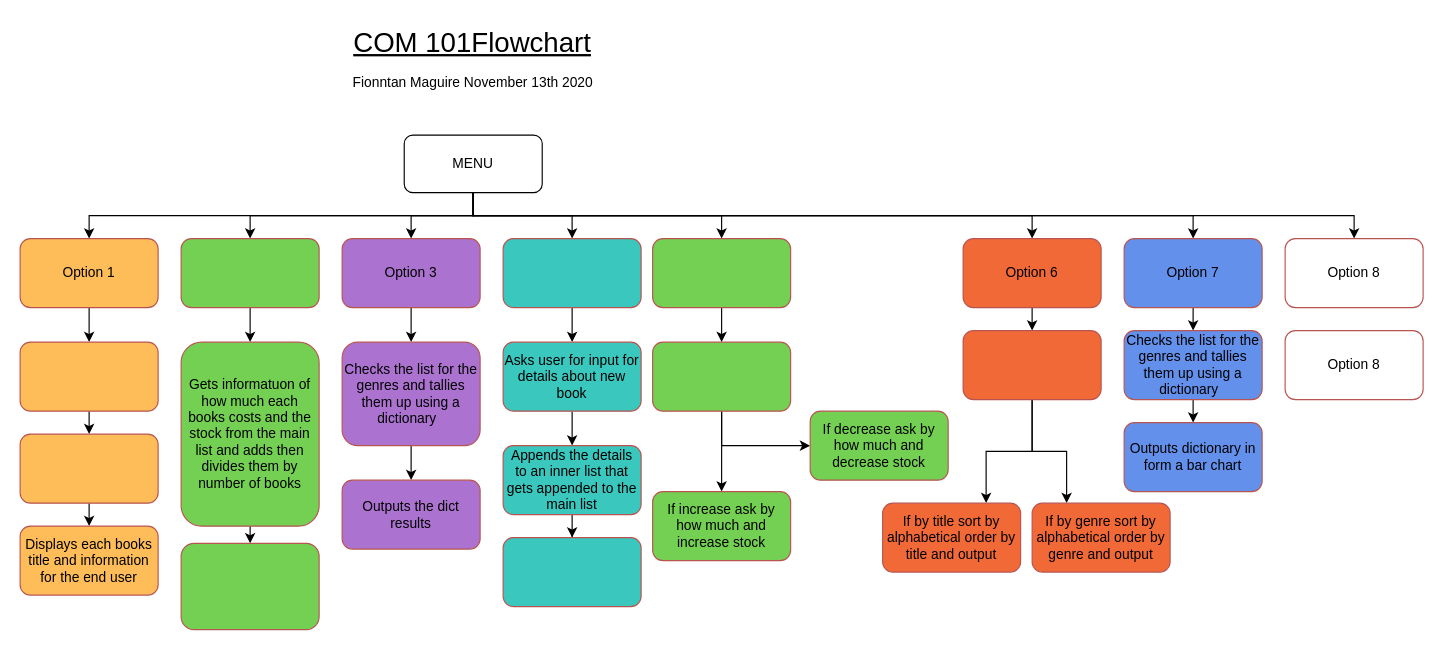
This 1443x650 diagram has some shape labels left out. The centre of each missing label's shape, as x and y in pixels:
Asks user for the title of the book they want to increase or decrease stock on: [721,376]
Asks user if they want to sort by title or genre: [1031,364]
Formats each line and splits them into a list which gets added to a main list: [88,468]
Option 2: [249,272]
Option 4: [571,272]
Option 5: [721,272]
Output the average price: [249,586]
Prints new stock level and: [571,571]
Reads the information from the text: [88,376]
